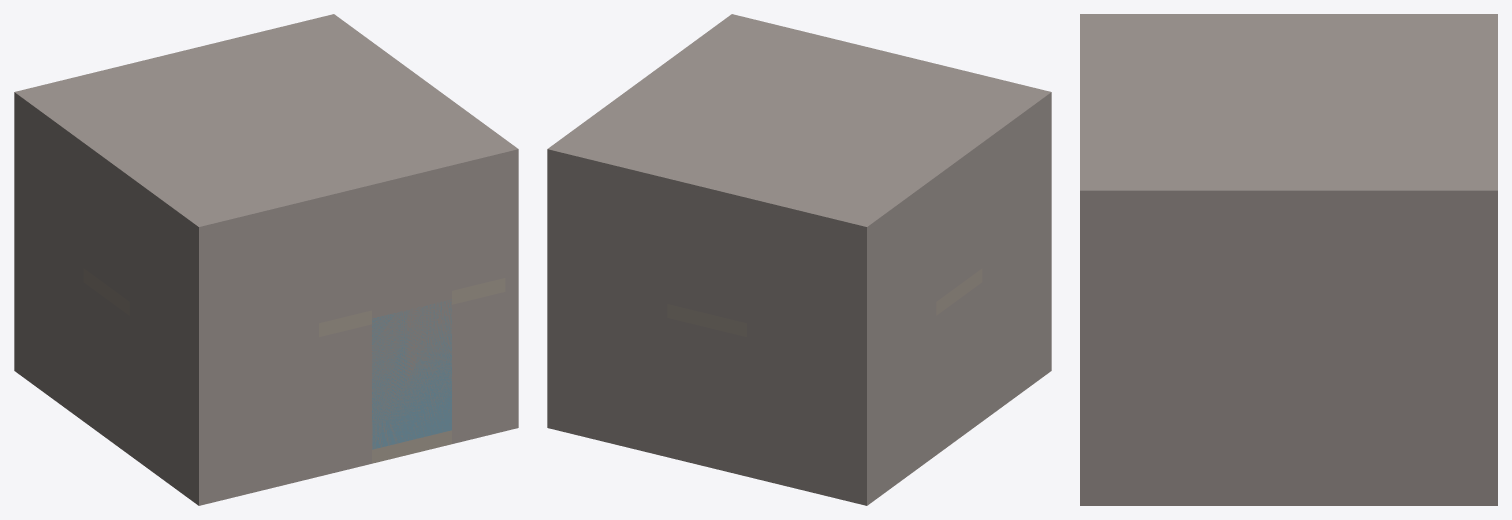
File: creek-spring.glb
3 views of the same model, side by side, from view 1: azimuth 30°, elevation 25°; view 2: azimuth 150°, elevation 25°; view 3: azimuth 270°, elevation 25° (orthographic). The views are drawn at different scales.
Visible parts, largest first — view 1: rock_40, plug_creek_south, rock_8, water_3, rock_32, plug_creek_south.001, rock_21, rock_7, rock_11, rock_10, rock_9, rock_12 (+22 smaller); view 2: rock_40, rock_1, rock_2, rock_25, rock_26, rock_13, rock_8, rock_32, plug_north, rock_21, rock_7, plug_west (+9 smaller); view 3: rock_40, rock_6, rock_30, rock_4, rock_28, rock_2, rock_26.
Part boxes in pixels (x1,y1,x2,y2): rock_40: (14, 14, 518, 240); plug_creek_south: (319, 180, 505, 323); rock_8: (129, 302, 212, 505); water_3: (372, 299, 451, 449); rock_32: (129, 191, 212, 352); plug_creek_south.001: (372, 291, 451, 448); rock_21: (83, 282, 129, 454); rock_7: (52, 246, 83, 421); rock_11: (265, 330, 292, 489); rock_10: (239, 336, 265, 495); rock_9: (212, 343, 238, 502); rock_12: (292, 323, 318, 482); rock_40: (547, 14, 1051, 240); rock_1: (747, 323, 874, 505); rock_2: (547, 274, 667, 456); rock_25: (747, 212, 874, 352); rock_26: (547, 163, 667, 303); rock_13: (667, 318, 746, 476); rock_8: (982, 218, 1051, 421); rock_32: (982, 106, 1051, 267); plug_north: (667, 220, 746, 323); rock_21: (936, 282, 982, 454); rock_7: (905, 302, 936, 477); plug_west: (936, 185, 982, 301); rock_40: (1080, 14, 1497, 206); rock_6: (1080, 332, 1445, 505); rock_30: (1080, 206, 1445, 332); rock_4: (1445, 332, 1480, 505); rock_28: (1445, 206, 1480, 332); rock_2: (1480, 332, 1497, 505); rock_26: (1480, 206, 1497, 332).
Size of the model in its own units: 12 by 10 by 12.
